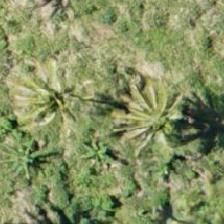coconut_tree: (124, 72, 214, 162), (0, 50, 81, 140)
